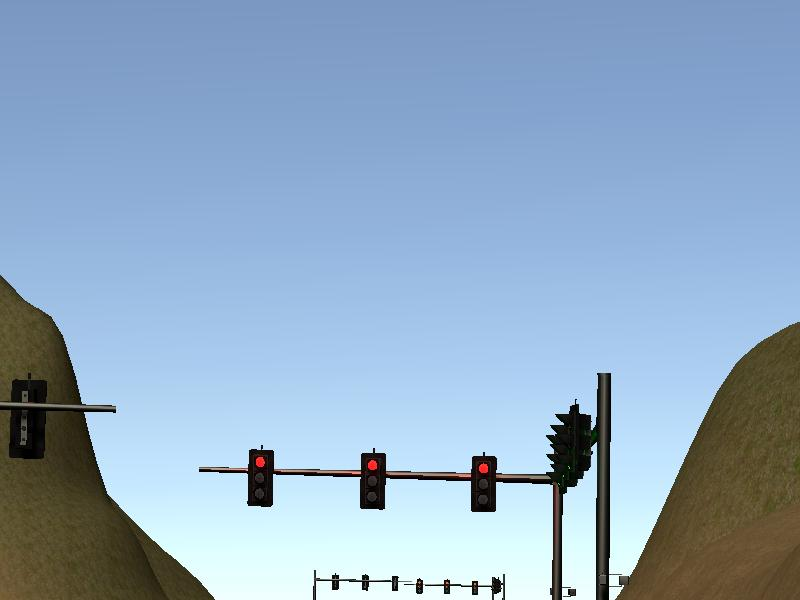Red: (248, 446, 273, 507), (361, 453, 385, 511), (471, 455, 494, 511)
